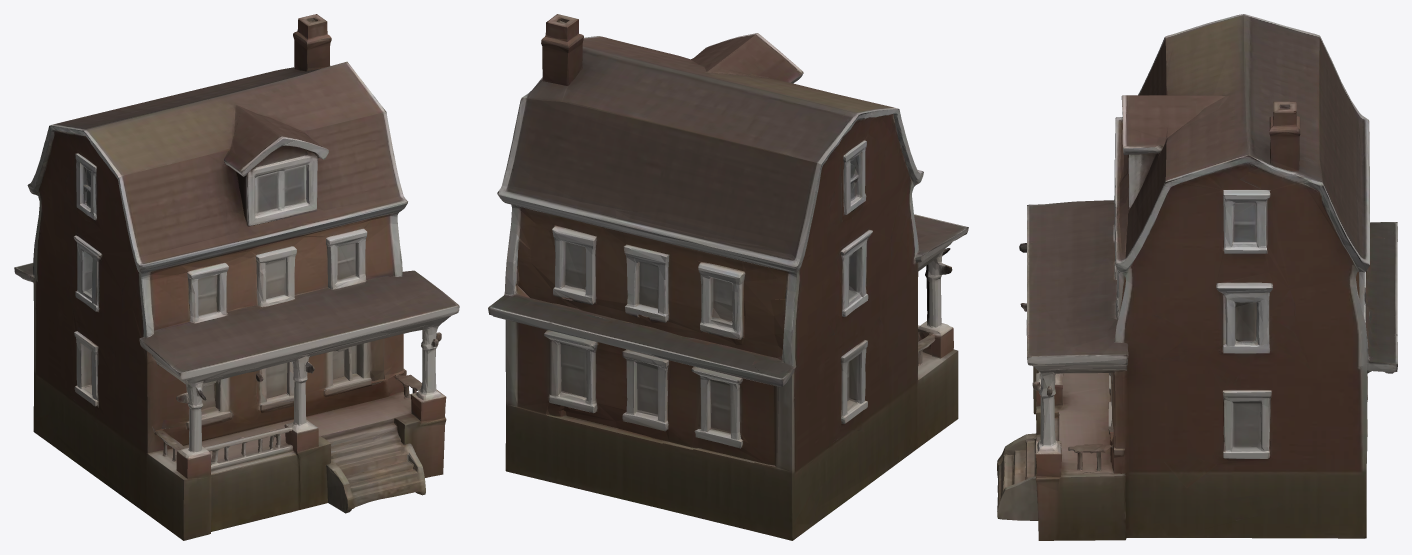
Rendered from house_brown_two_story.glb.
3 renders of one model, left to right at view 1: azimuth 30°, elevation 25°; view 2: azimuth 150°, elevation 25°; view 3: azimuth 270°, elevation 25°, orthographic. The views are drawn at different scales.
Parts seen in each view (by area): view 1: geometry_0; view 2: geometry_0; view 3: geometry_0.
Boxes of the visible parts, x1,y1,x2,y2 form: geometry_0: (14,14,459,540); geometry_0: (488,14,968,540); geometry_0: (997,14,1397,540).
Size of the model in its own units: 0.7709 by 0.9999 by 0.8565.
1 material, 1 textured.
